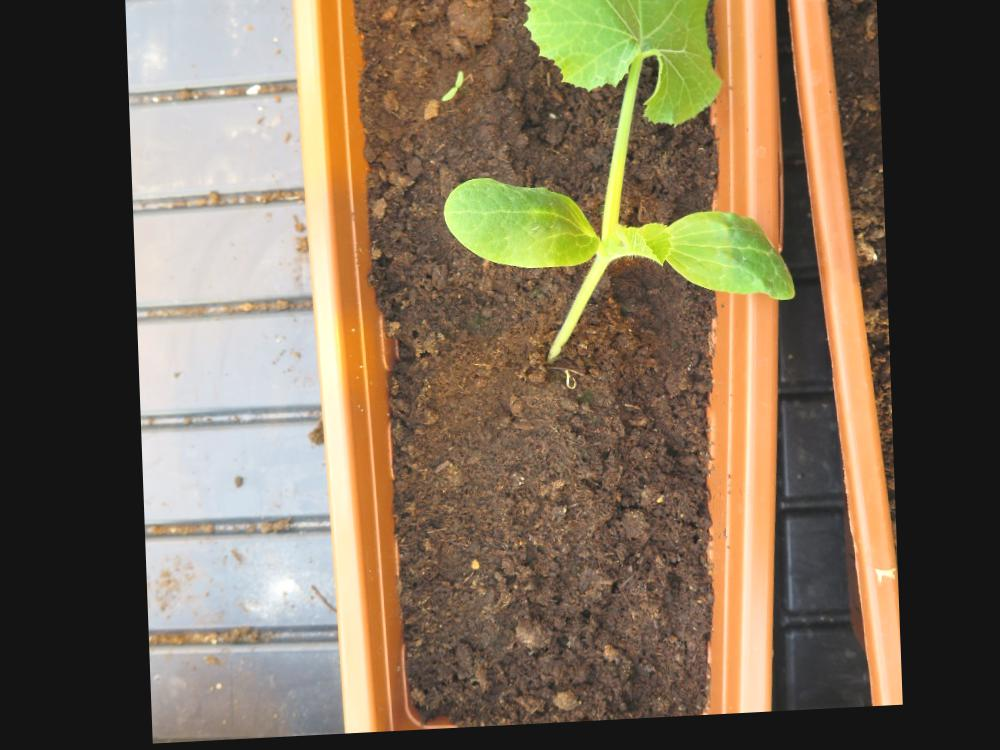weed: (438, 75, 463, 108)
